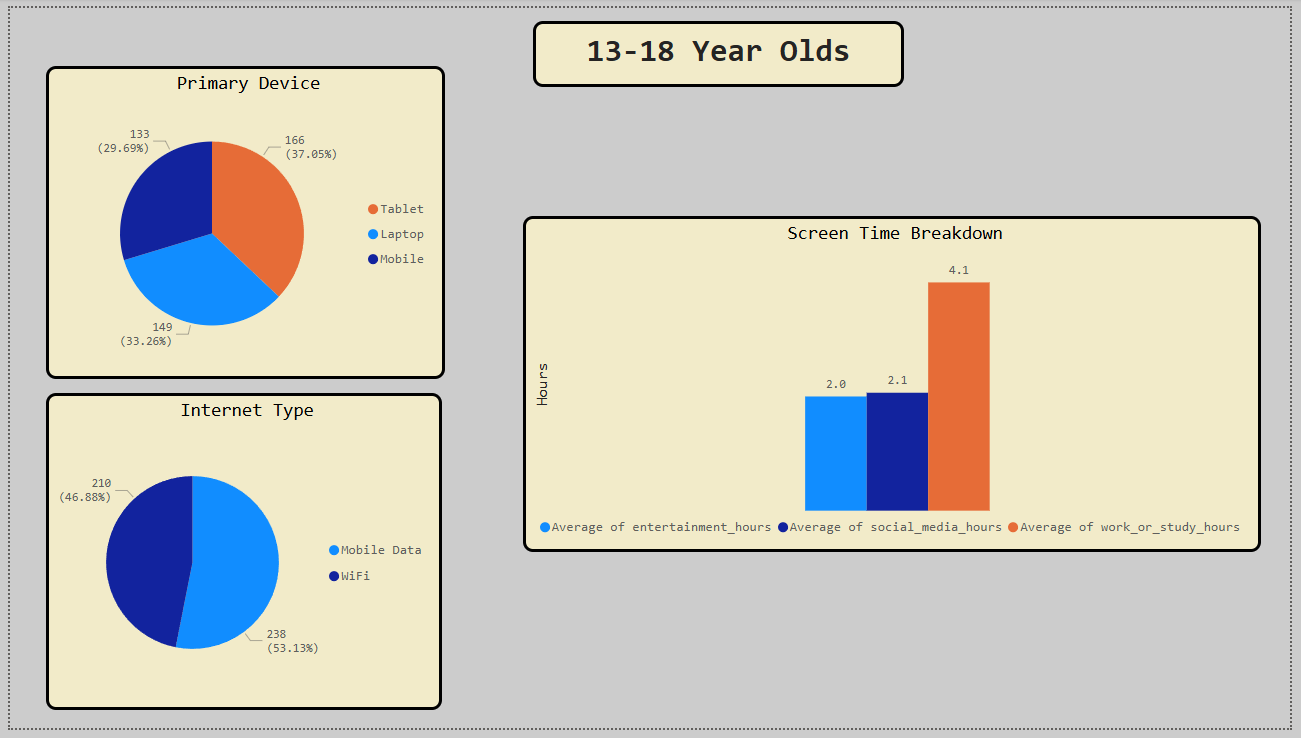

This screenshot's page, from the dashboard's own definition file:
{"tool":"powerbi","page":{"name":"13-18yr olds","canvas":[1280,720],"ordinal":1},"visuals":[{"type":"pieChart","title":"Primary Device","fields":{"Category":["daily_internet_usage_by_age_gro.primary_device"],"Y":["CountNonNull(daily_internet_usage_by_age_gro.primary_device)"]},"box":[36.1,57.7,398.8,313.3],"z":0},{"type":"pieChart","title":"Internet Type","fields":{"Category":["daily_internet_usage_by_age_gro.internet_type"],"Y":["CountNonNull(daily_internet_usage_by_age_gro.internet_type)"]},"box":[36.1,385.4,395.7,316.4],"z":1},{"type":"clusteredColumnChart","title":"Screen Time Breakdown","fields":{"Y":["Avg(daily_internet_usage_by_age_gro.entertainment_hours)","Avg(daily_internet_usage_by_age_gro.social_media_hours)","Avg(daily_internet_usage_by_age_gro.work_or_study_hours)"]},"box":[513.2,208.2,737.9,336],"z":2},{"type":"textbox","box":[522.5,13.4,371,66],"z":3}]}

Visuals, with their boxes in screenshot pixels (x1, y1, x2, y2), scaled from the page's 1280x720 canvas onto the 1301x738 screenshot:
"Primary Device" pieChart: 37, 59, 442, 380
"Internet Type" pieChart: 37, 395, 439, 719
"Screen Time Breakdown" clusteredColumnChart: 522, 213, 1272, 558
textbox: 531, 14, 908, 81
